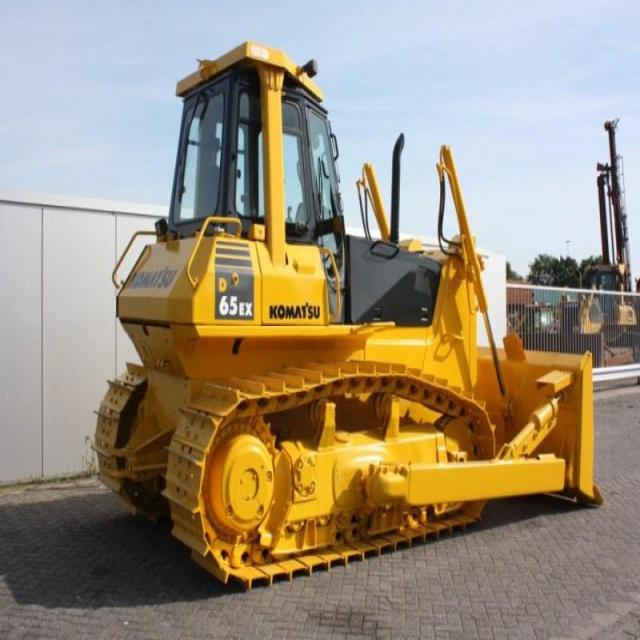Bulldozer: (90, 23, 606, 581)
